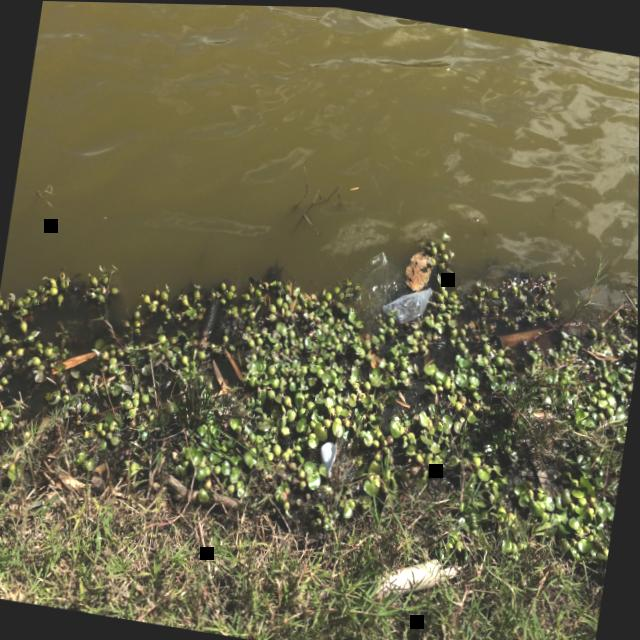Other plastic bottle: (320, 440, 336, 476)
Plastic film: (371, 249, 432, 321)
